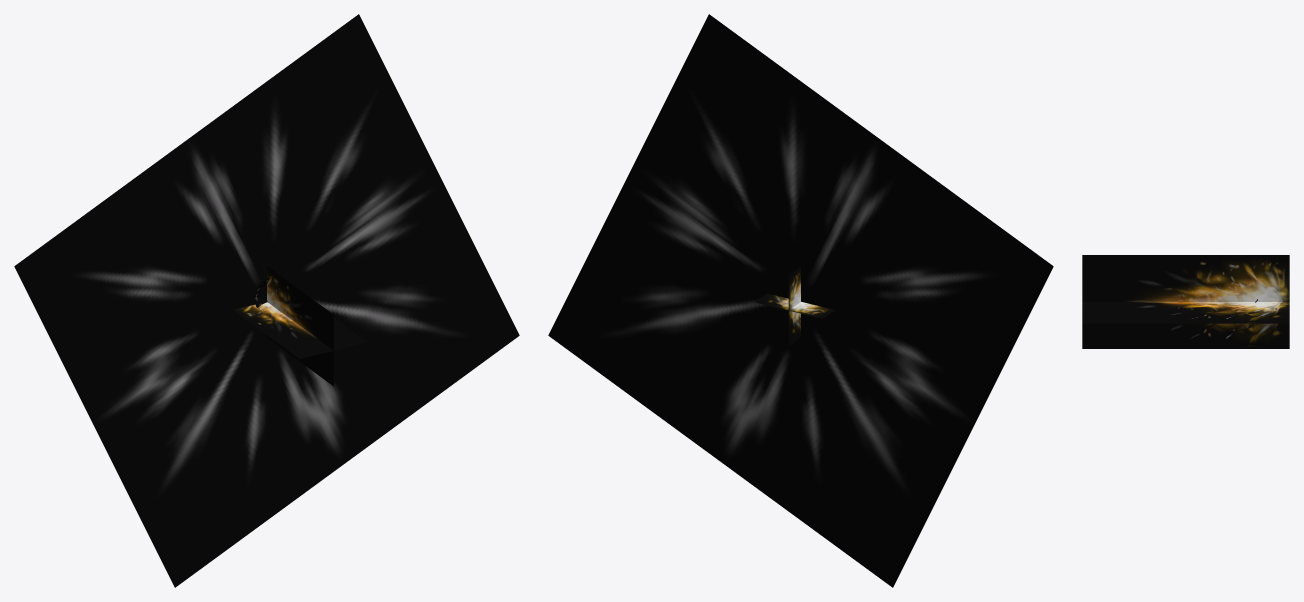
Rendered from attack_effect.FBX.
The picture shows the model from 3 angles, left to right: view 1: azimuth 30°, elevation 25°; view 2: azimuth 150°, elevation 25°; view 3: azimuth 270°, elevation 25°; orthographic projection. The views are drawn at different scales.
Visible parts, largest first — view 1: 2_3, 1_1; view 2: 2_3, 1_1; view 3: 1_1.
Part boxes in pixels (x1,y1,x2,y2): 2_3: (14, 14, 519, 587); 1_1: (233, 266, 367, 386); 2_3: (548, 14, 1053, 587); 1_1: (755, 266, 834, 346); 1_1: (1082, 255, 1289, 348).
Bounding box in the file's own units: 4.94 × 4.94 × 1.34.
2 materials, 2 textured.
